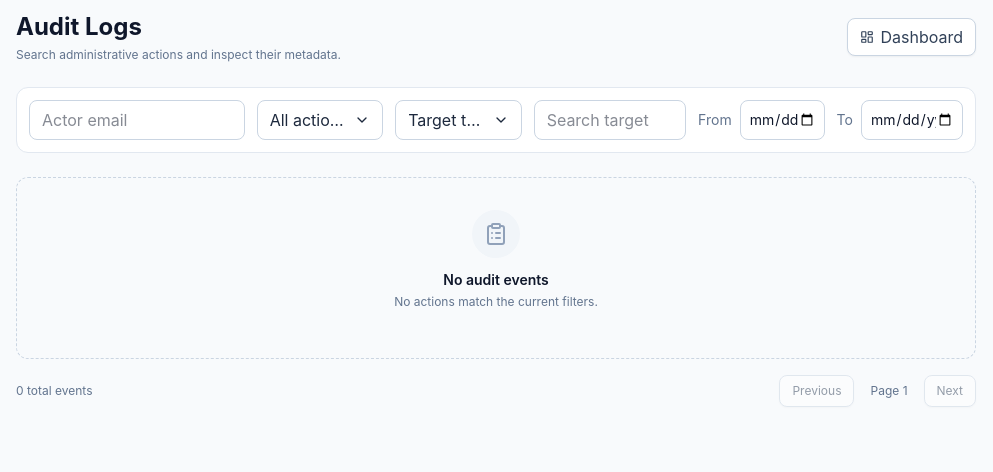
Test: AdminAuditLogsPage › renders filter controls
Expected: the field with placeholder "Actor email" is shown, [29, 100, 245, 140]
Click the dropdown named "Filter audit logs by action". click: (320, 120)
box: [257, 100, 383, 140]
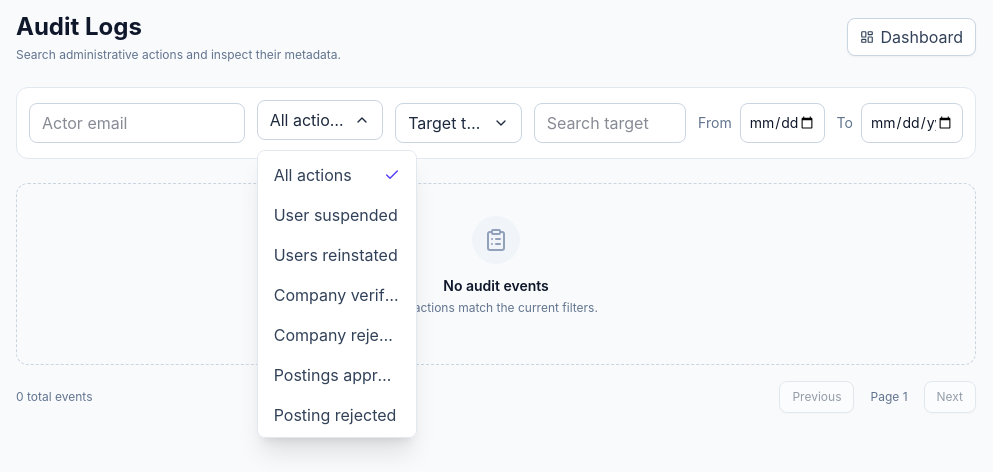
Expected: the option "All actions" is shown, [262, 155, 412, 195]
Click the dropdown named "Filter audit logs by target type". click: (458, 123)
box: [395, 103, 522, 143]
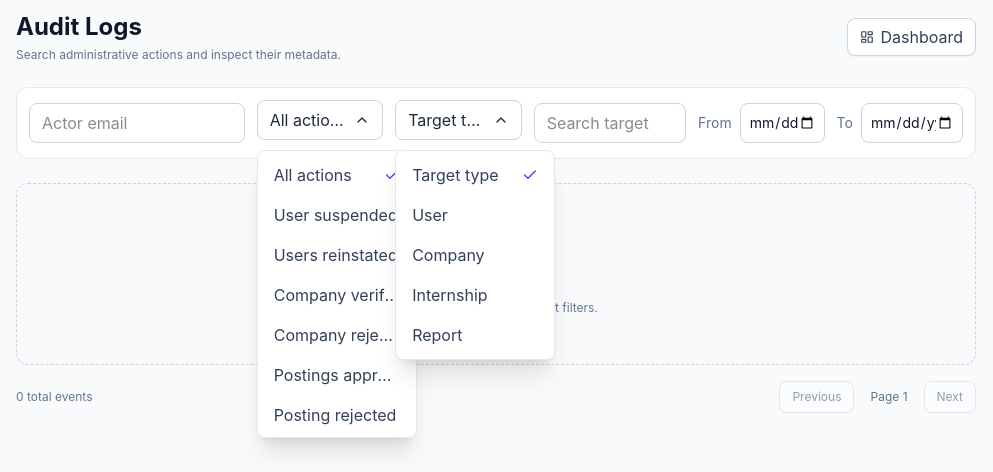
Expected: the option "Target type" is shown, [400, 155, 550, 195]
